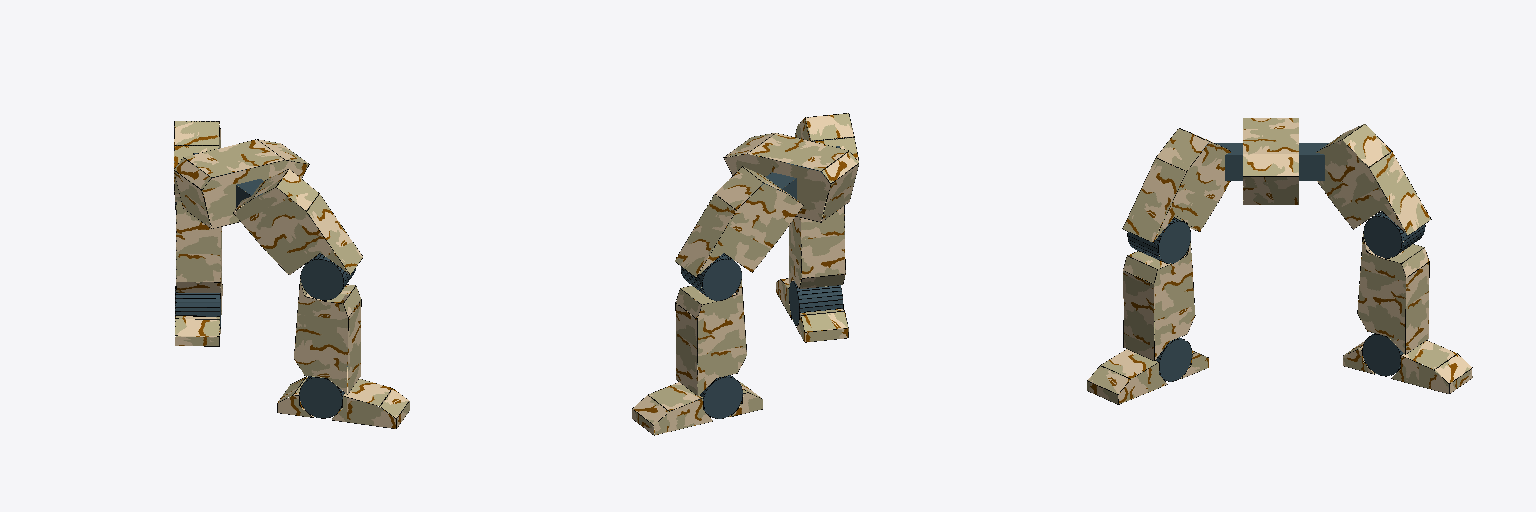
3 views of the same model, side by side, from view 1: azimuth 30°, elevation 25°; view 2: azimuth 150°, elevation 25°; view 3: azimuth 270°, elevation 25° (orthographic).
Parts seen in each view (by area): view 1: Leg.018; view 2: Leg.018; view 3: Leg.018, Cube.001.
Part boxes in pixels (left/top/right/bottom): Leg.018: left=174, top=121, right=409, bottom=428; Leg.018: left=632, top=113, right=858, bottom=435; Leg.018: left=1087, top=118, right=1472, bottom=404; Cube.001: left=1202, top=143, right=1331, bottom=180.
Size of the model in its own units: 2.97 by 4.42 by 6.81.
2 materials, 2 textured.